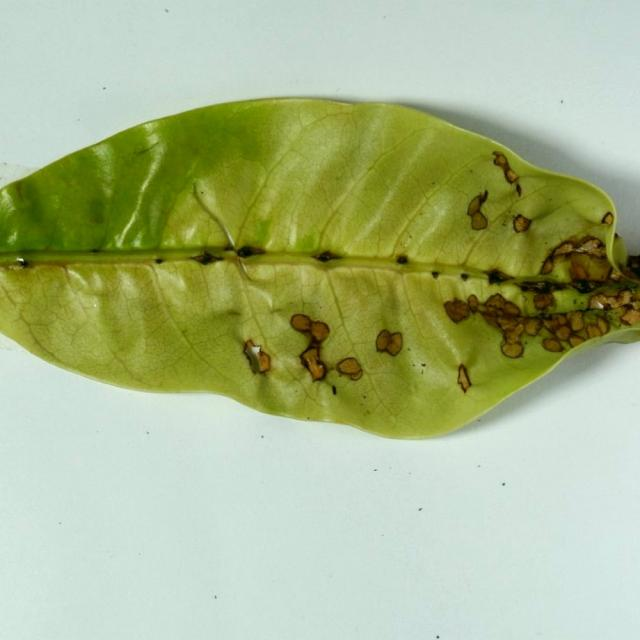Anthracnose: (541, 236, 610, 280), (587, 289, 640, 314), (483, 293, 522, 318), (243, 339, 270, 375), (300, 347, 326, 382), (333, 358, 365, 384), (467, 192, 488, 231), (375, 330, 404, 357), (443, 299, 470, 322), (503, 324, 526, 346), (190, 251, 224, 265), (289, 313, 314, 332), (309, 321, 330, 342), (576, 238, 602, 254), (457, 364, 471, 393), (236, 245, 266, 258), (588, 294, 612, 310), (501, 342, 524, 358), (497, 316, 520, 332), (620, 308, 640, 326), (486, 270, 515, 282), (533, 293, 553, 310), (550, 242, 574, 256), (513, 215, 531, 233), (523, 318, 542, 335), (483, 312, 503, 328), (315, 251, 344, 262), (569, 312, 584, 332), (542, 338, 563, 352), (4, 259, 28, 271), (585, 324, 603, 339), (540, 257, 554, 276), (596, 316, 610, 335), (554, 325, 571, 340), (492, 152, 508, 166), (572, 328, 588, 342), (568, 335, 585, 347), (244, 339, 257, 354), (467, 294, 478, 311), (601, 212, 614, 226), (506, 169, 519, 183), (554, 314, 569, 326), (396, 255, 408, 264), (516, 184, 522, 197)
Mango: (0, 96, 639, 442)
